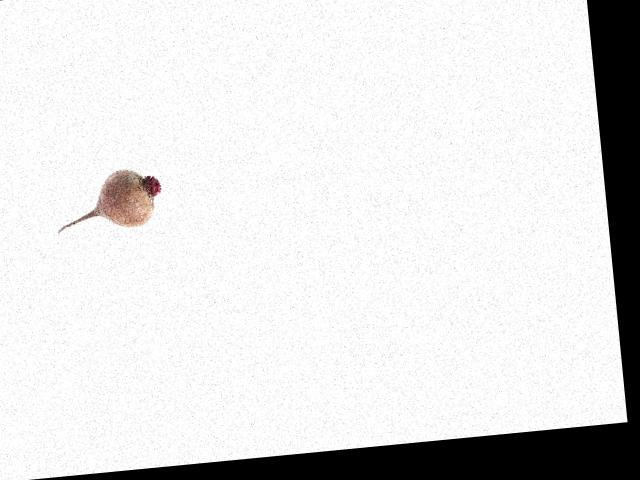beet: (52, 164, 164, 234)
